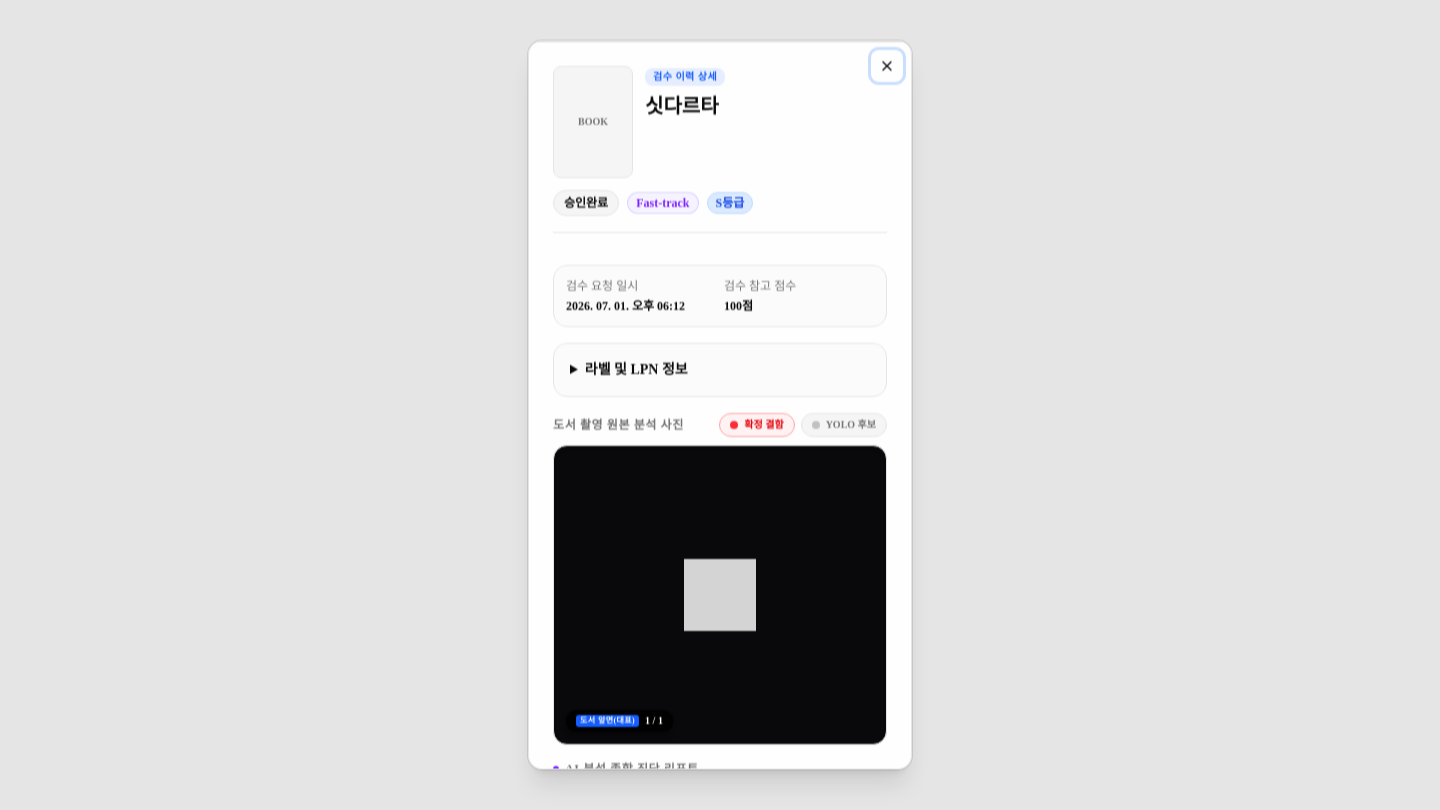
Test case: InspectionHistoryDetailDialog › YOLO 후보 레이어는 기본적으로 숨겨져 있고 체크박스를 켜면 표시된다
expect the text "STAIN" is not shown: met
Click the button "YOLO 후보". click: (844, 425)
box: [801,412,887,437]
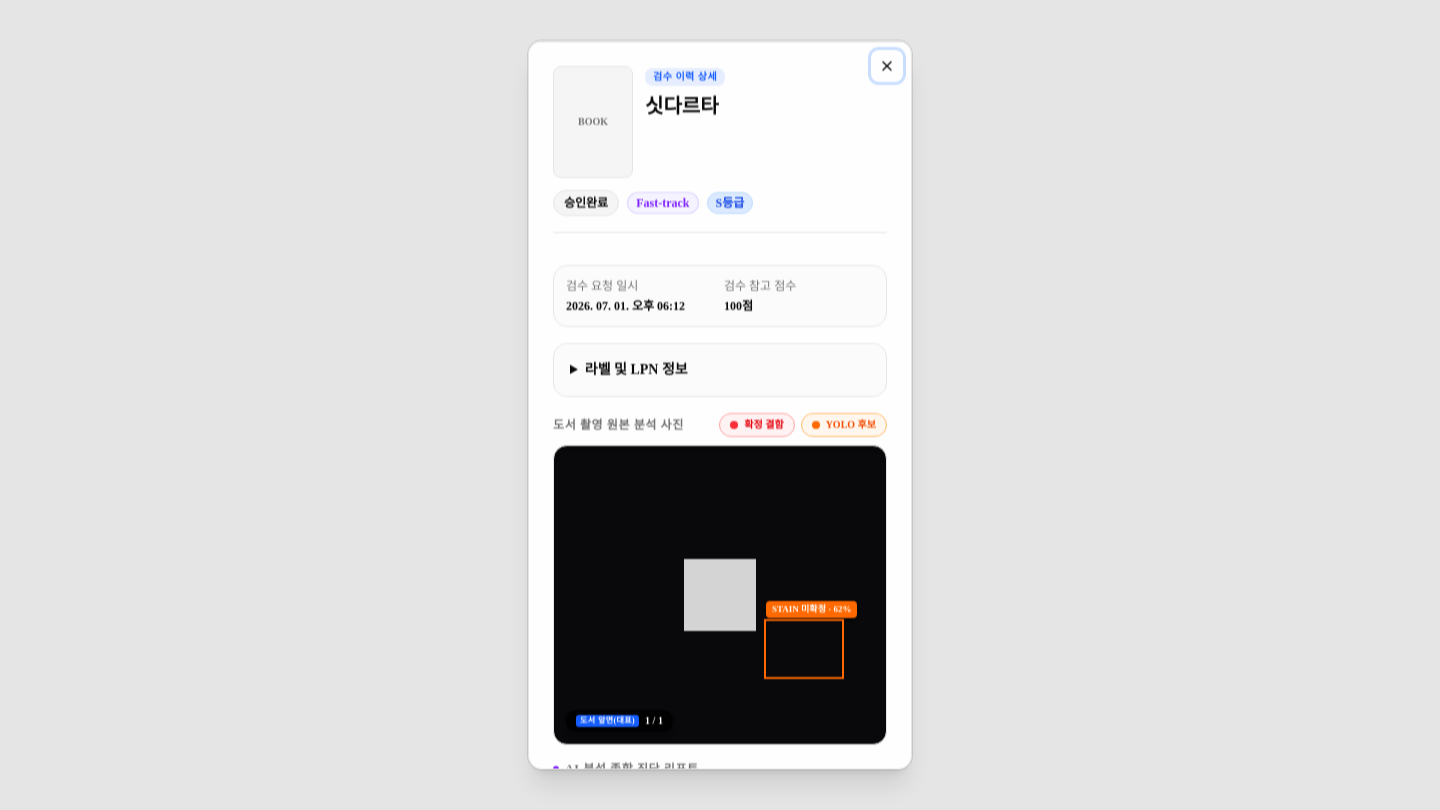
expect the text "STAIN 미확정 · 62%" is shown: met, box [766,601,858,618]
